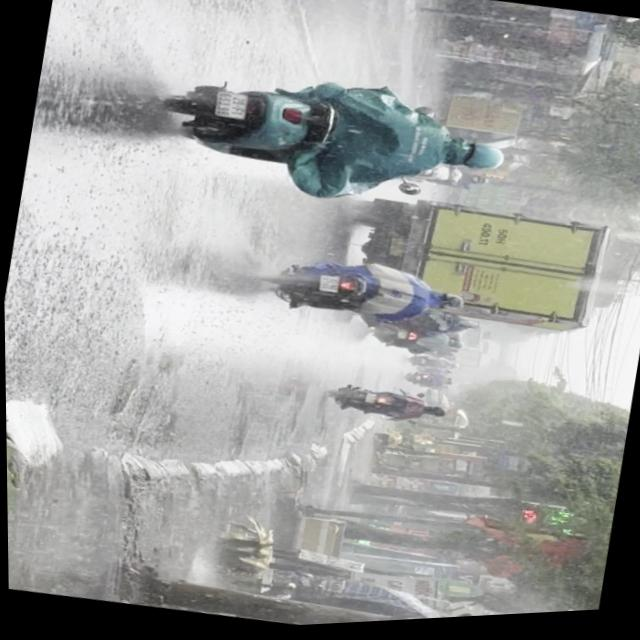helmet: (444, 137, 508, 181), (433, 293, 464, 315)
licenseplate: (137, 43, 520, 240), (252, 242, 470, 345)
nohelmet: (214, 90, 248, 122), (318, 277, 339, 297)
